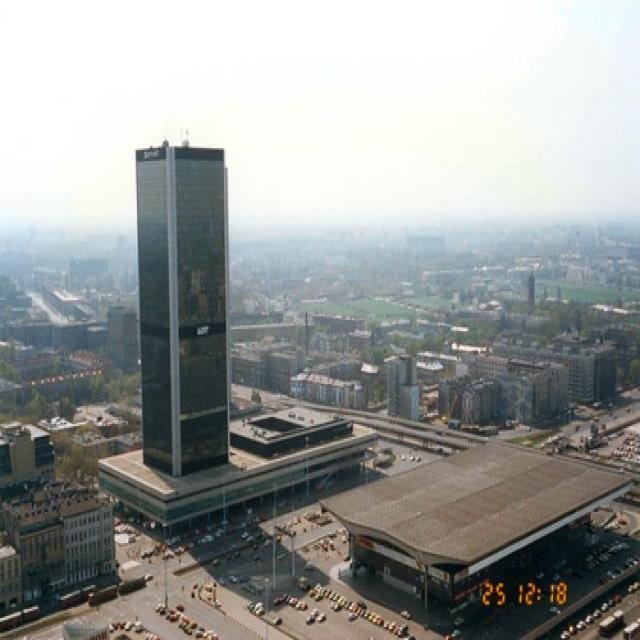Normal_building: (132, 134, 234, 478)
